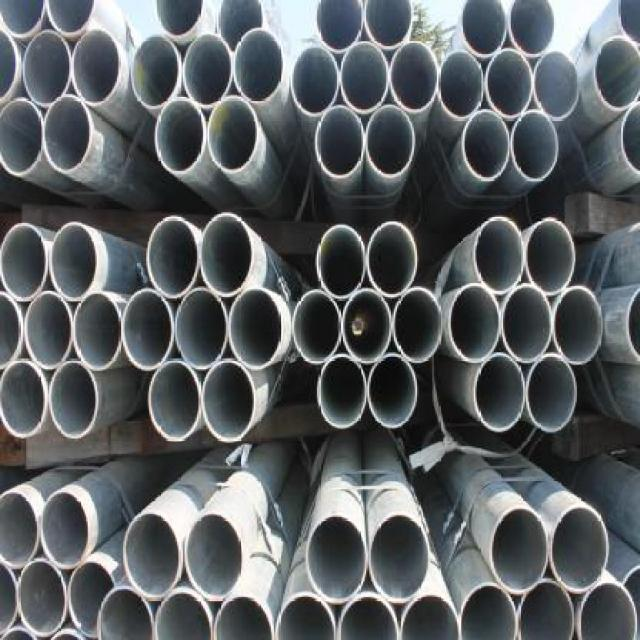pipe: (368, 514, 430, 603), (305, 515, 367, 603), (549, 505, 609, 594), (183, 511, 243, 600), (490, 508, 548, 596), (123, 514, 182, 600), (199, 214, 254, 299), (228, 286, 282, 371), (203, 359, 256, 444), (174, 286, 228, 369), (148, 360, 202, 442), (148, 216, 201, 299), (121, 288, 174, 371), (525, 353, 578, 433), (448, 283, 501, 362), (15, 558, 68, 637), (154, 97, 207, 174), (366, 222, 419, 299), (42, 94, 93, 174), (552, 285, 603, 365), (71, 28, 122, 108), (474, 217, 525, 296), (502, 285, 553, 363), (208, 96, 259, 173), (525, 219, 576, 296), (392, 286, 443, 363), (50, 222, 99, 302), (73, 291, 122, 371), (474, 353, 523, 433), (50, 359, 99, 439), (316, 225, 367, 301), (23, 291, 72, 370), (340, 288, 391, 363), (183, 34, 234, 108), (131, 36, 182, 110), (339, 40, 390, 114), (2, 358, 48, 440), (316, 105, 365, 181), (234, 28, 283, 104), (40, 493, 88, 570), (68, 562, 116, 639), (23, 29, 71, 106), (592, 34, 640, 111), (2, 222, 48, 302), (293, 290, 342, 365), (517, 577, 576, 639), (319, 354, 367, 430), (368, 354, 417, 428), (390, 40, 439, 113), (366, 105, 414, 179), (511, 109, 559, 182), (462, 111, 511, 182), (291, 45, 339, 116), (485, 48, 533, 119), (458, 582, 517, 639), (579, 583, 639, 639), (532, 51, 580, 120), (437, 49, 483, 120), (2, 99, 44, 176), (95, 585, 154, 639), (154, 587, 214, 640), (2, 491, 41, 570), (337, 594, 400, 639), (508, 2, 557, 59), (275, 594, 337, 639), (214, 594, 274, 640), (400, 594, 458, 640), (361, 2, 414, 51), (462, 2, 507, 59), (314, 2, 363, 53), (217, 1, 263, 54), (152, 2, 205, 39), (46, 2, 99, 39), (2, 2, 48, 41), (618, 100, 640, 177), (2, 293, 22, 370), (624, 283, 640, 367)
